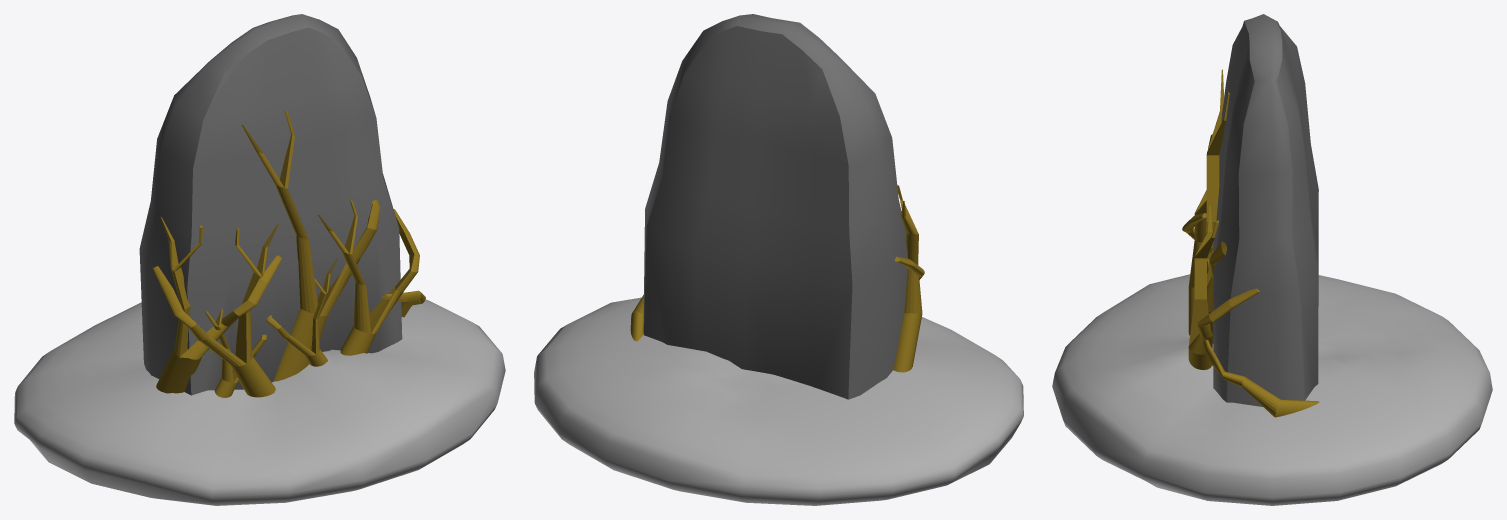
File: tablet try.fbx
The picture shows the model from 3 angles, left to right: view 1: azimuth 30°, elevation 25°; view 2: azimuth 150°, elevation 25°; view 3: azimuth 270°, elevation 25°; orthographic projection.
Visible parts, largest first — view 1: polySurface16; view 2: polySurface16; view 3: polySurface16.
Part boxes in pixels (x1,y1,x2,y2): polySurface16: [14, 14, 505, 505]; polySurface16: [534, 14, 1023, 505]; polySurface16: [1052, 14, 1492, 505].
Size of the model in its own units: 8.6 by 7.73 by 7.44.
